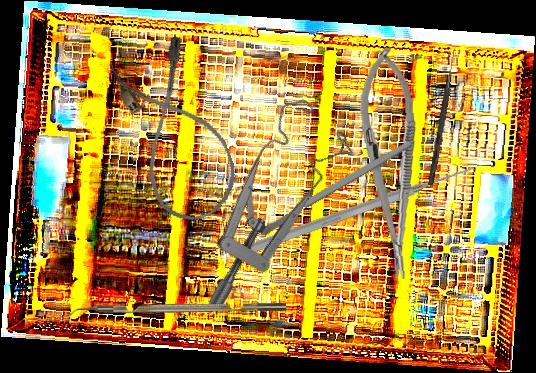Cannula: (105, 33, 248, 231)
Chopper: (66, 303, 286, 322)
Hook Surgical: (428, 47, 457, 186)
Needle Holder: (353, 45, 428, 282)
Pusher: (248, 160, 477, 257)
Speculum: (140, 85, 385, 315)
Surgical Spoon: (255, 138, 414, 236)
